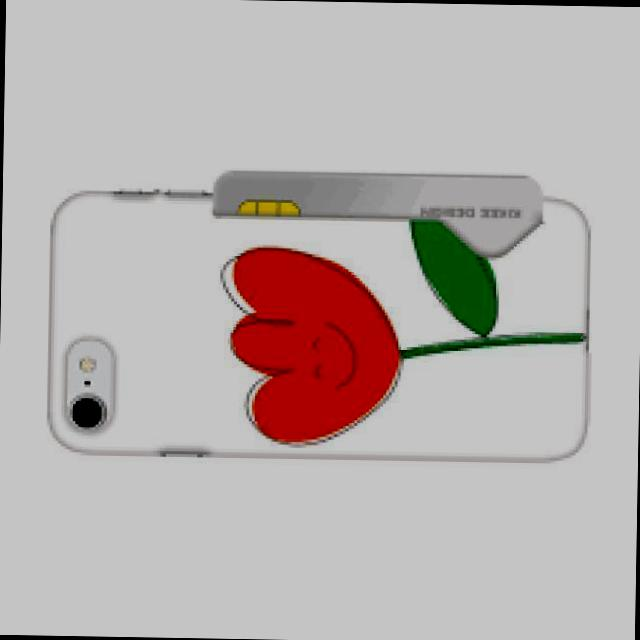lens_back: (66, 388, 109, 431)
phone: (36, 186, 596, 468)
